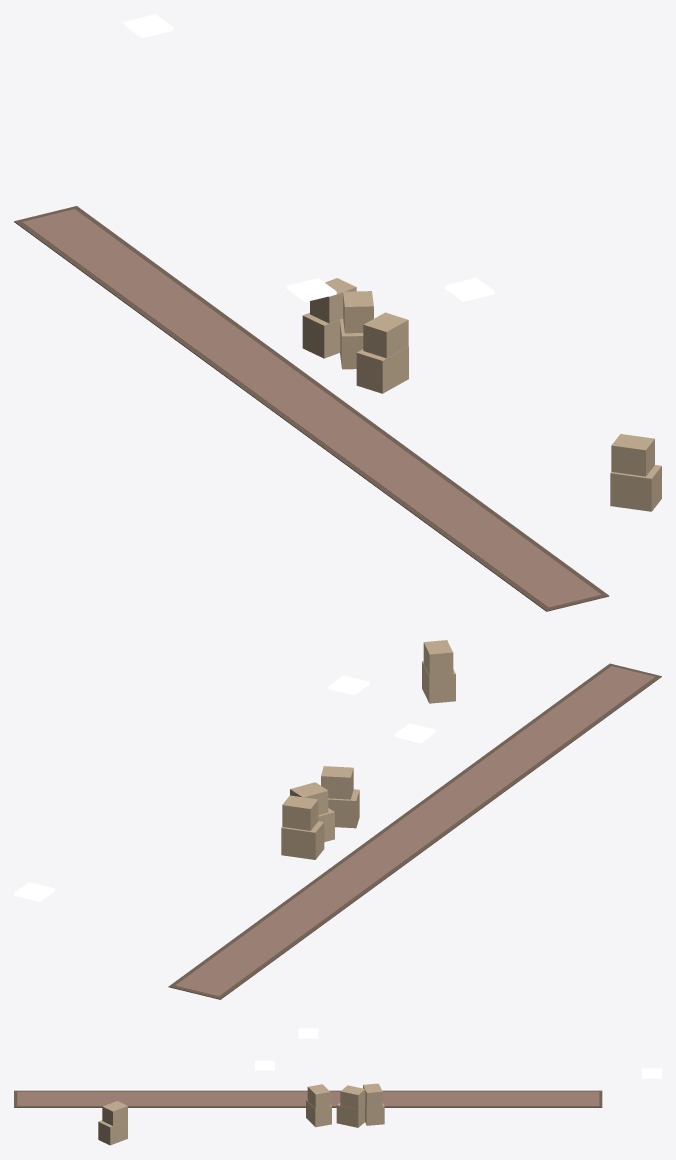
Rendered from fine-s0.glb.
3 views of the same model, one above another, from view 1: azimuth 30°, elevation 25°; view 2: azimuth 150°, elevation 25°; view 3: azimuth 270°, elevation 25° (orthographic). The views are drawn at different scales.
Parts seen in each view (by area): view 1: soft-s0, crate.000, cardboard-box.002, cardboard-box.000, cardboard-box.001; view 2: soft-s0, cardboard-box.000, cardboard-box.002, crate.000, cardboard-box.001, ceiling-lamp.002; view 3: soft-s0, cardboard-box.002, cardboard-box.001, crate.000, cardboard-box.000, ceiling-lamp.000, ceiling-lamp.001, ceiling-lamp.002.
Boxes of the visible parts, x1,y1,x2,y2 form: soft-s0: [14, 206, 609, 611]; crate.000: [356, 312, 408, 393]; cardboard-box.002: [610, 434, 661, 511]; cardboard-box.000: [302, 278, 356, 358]; cardboard-box.001: [340, 291, 373, 369]; soft-s0: [168, 663, 661, 999]; cardboard-box.000: [281, 795, 324, 859]; cardboard-box.002: [422, 640, 455, 703]; crate.000: [321, 766, 359, 828]; cardboard-box.001: [290, 782, 334, 842]; ceiling-lamp.002: [328, 675, 369, 695]; soft-s0: [14, 1090, 602, 1107]; cardboard-box.002: [98, 1101, 127, 1145]; cardboard-box.001: [336, 1085, 365, 1127]; crate.000: [306, 1084, 331, 1127]; cardboard-box.000: [363, 1083, 384, 1125]; ceiling-lamp.000: [298, 1028, 318, 1038]; ceiling-lamp.001: [642, 1068, 661, 1078]; ceiling-lamp.002: [255, 1060, 274, 1070].
Size of the model in its own units: 3.22 by 1.84 by 16.15.
